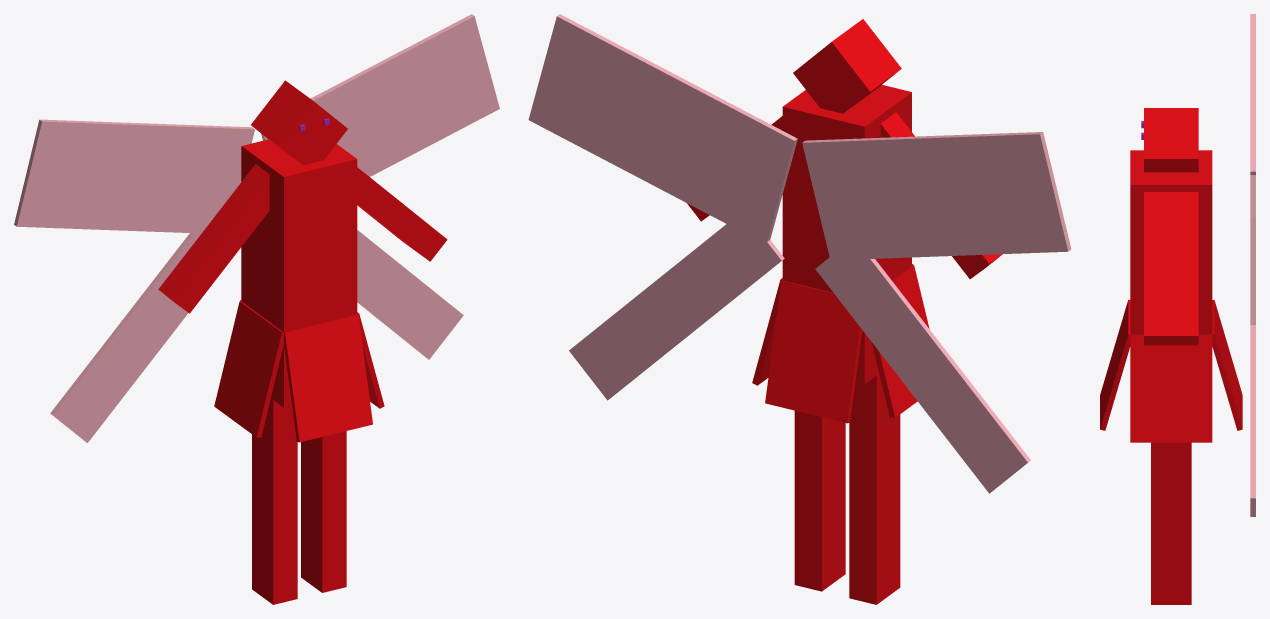
The model's file is BurningFairy.fbx.
3 renders of one model, left to right at view 1: azimuth 30°, elevation 25°; view 2: azimuth 150°, elevation 25°; view 3: azimuth 270°, elevation 25°, orthographic. The views are drawn at different scales.
Parts seen in each view (by area): view 1: Cube.007, Cube.004, Cube.005; view 2: Cube.007, Cube.004, Cube.005; view 3: Cube.007, Cube.005, Cube.004.
Boxes of the visible parts, left/top/right/bottom form: Cube.007: left=158, top=80, right=447, bottom=604; Cube.004: left=14, top=119, right=254, bottom=442; Cube.005: left=261, top=14, right=499, bottom=359; Cube.007: left=687, top=19, right=1002, bottom=604; Cube.004: left=802, top=132, right=1071, bottom=493; Cube.005: left=528, top=14, right=797, bottom=400; Cube.007: left=1100, top=108, right=1242, bottom=604; Cube.005: left=1250, top=175, right=1255, bottom=516; Cube.004: left=1250, top=14, right=1255, bottom=174.
Size of the model in its own units: 197 by 194 by 57.14.
